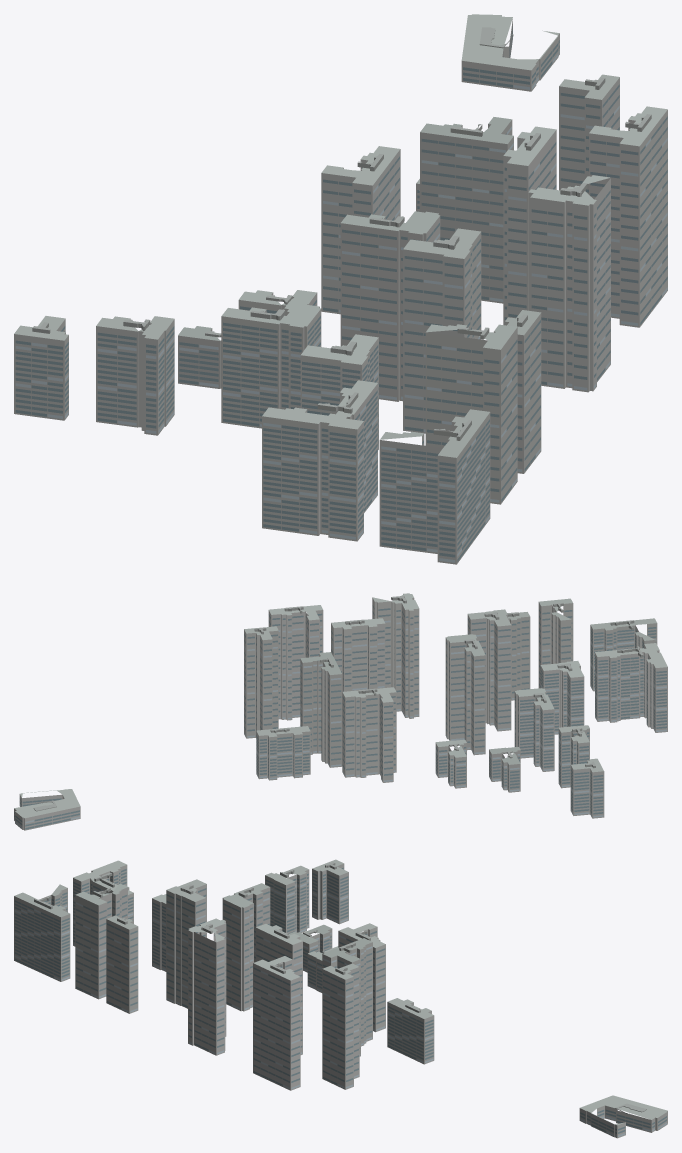
Rendered from apt-a10023348.glb.
The picture shows the model from 3 angles, top to bottom: view 1: azimuth 30°, elevation 25°; view 2: azimuth 150°, elevation 25°; view 3: azimuth 270°, elevation 25°; orthographic projection. The views are drawn at different scales.
Parts seen in each view (by area): view 1: apt-a10023348; view 2: apt-a10023348; view 3: apt-a10023348.
Boxes of the visible parts, <box> form: apt-a10023348: <box>14,14,667,564</box>; apt-a10023348: <box>14,593,667,830</box>; apt-a10023348: <box>14,859,667,1138</box>.
Size of the model in its own units: 465 by 109 by 558.
